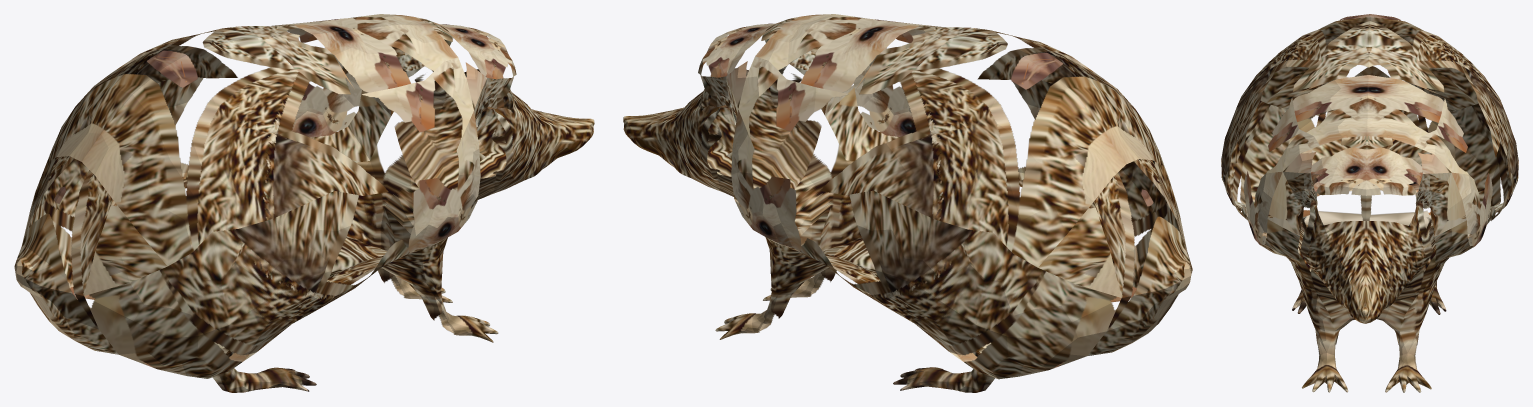
The picture shows the model from 3 angles, left to right: view 1: azimuth 30°, elevation 25°; view 2: azimuth 150°, elevation 25°; view 3: azimuth 270°, elevation 25°; orthographic projection. The views are drawn at different scales.
Parts seen in each view (by area): view 1: Hadgehog_FBX; view 2: Hadgehog_FBX; view 3: Hadgehog_FBX.
Boxes of the visible parts, bbox=[...] form: Hadgehog_FBX: bbox=[14, 14, 594, 392]; Hadgehog_FBX: bbox=[623, 14, 1192, 392]; Hadgehog_FBX: bbox=[1221, 14, 1518, 392].
Size of the model in its own units: 6.2 by 3.36 by 3.38.
1 material, 1 textured.
